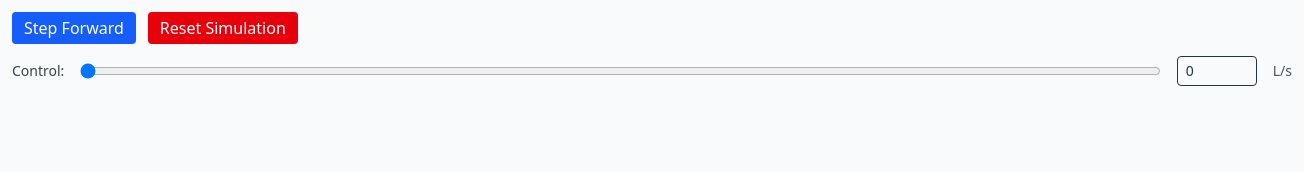
Test case: SimulationControls › syncs slider and number input values
This screenshot has width=1304, height=172.
Set the slider with test id "control-slider" to "50": (621, 71) [80, 63, 1161, 79]
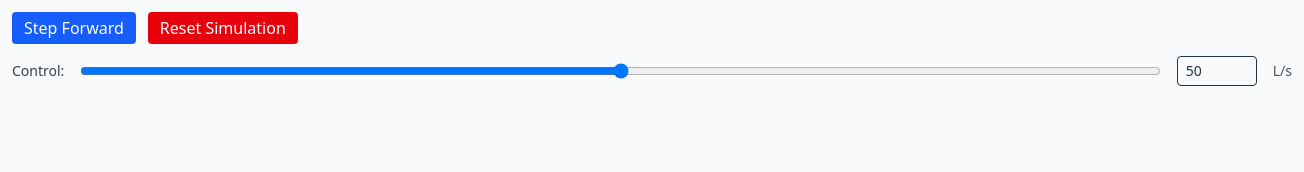
Expected: the number field with test id "control-input" holds "50"
Replace the text in the number field with test id "control-input" with "75": (1217, 71) [1177, 56, 1257, 86]
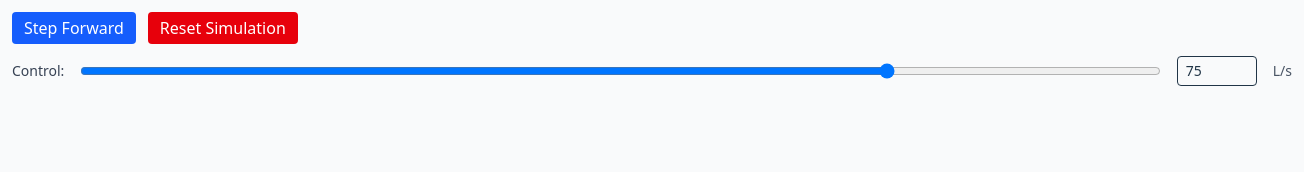
Expected: the slider with test id "control-slider" holds "75", [80, 63, 1161, 79]
